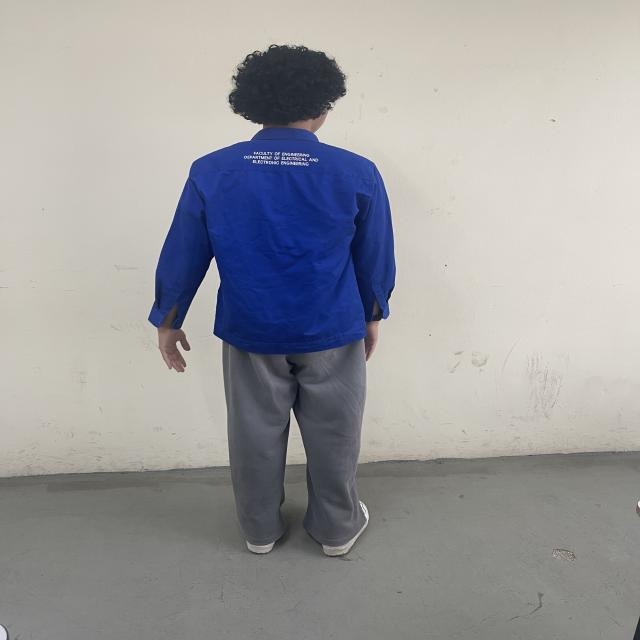person_with_labcoat: (149, 45, 396, 556)
